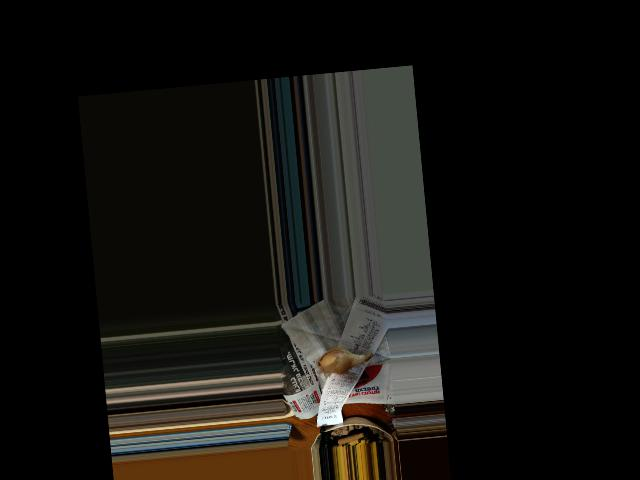onion: (318, 349, 355, 374)
